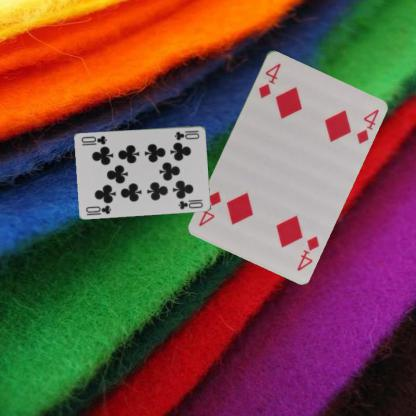10c: (172, 128, 201, 141), (84, 202, 112, 215)
4d: (255, 60, 282, 99), (294, 233, 320, 272)
